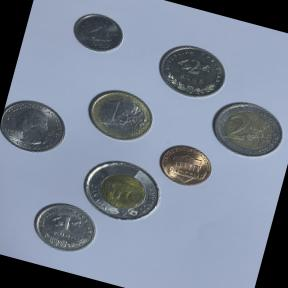1 Euro: (77, 80, 164, 151)
2 Euro: (200, 90, 288, 170)
Canda-10cent-: (66, 4, 131, 61)
Canda-2Dollar-: (74, 152, 170, 232)
Croatia-2Kune-: (149, 36, 235, 108)
US-1cent-: (152, 136, 220, 194)
US-25cent-: (0, 89, 77, 166)
